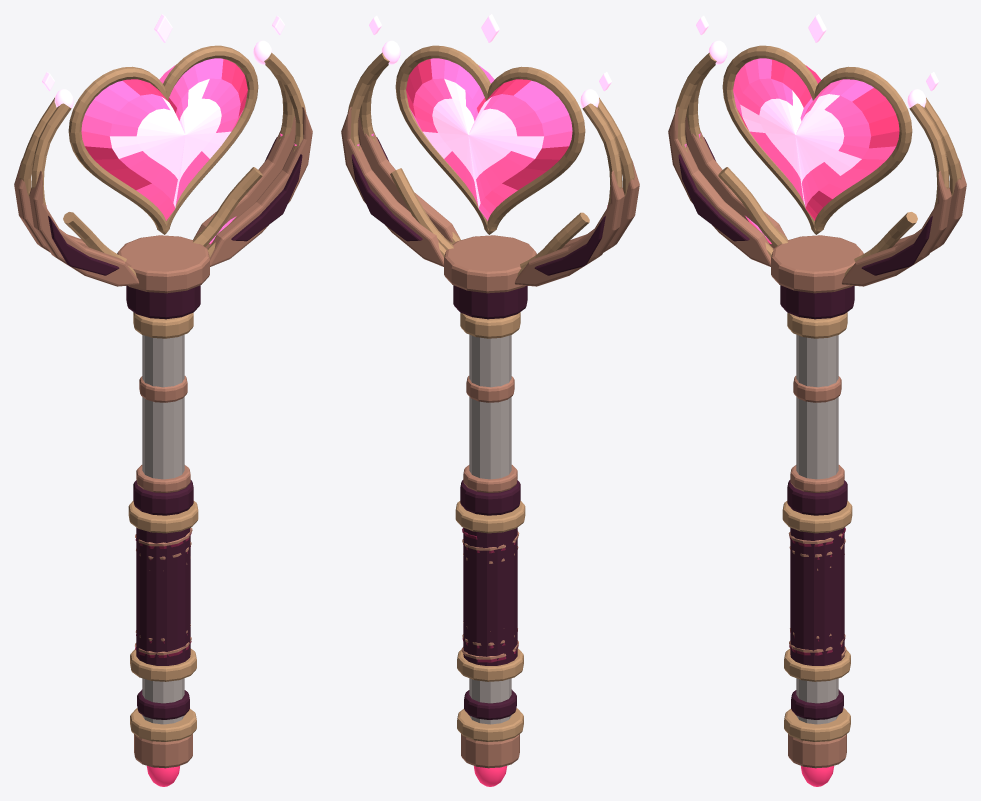
File: michaela-heart-wand.glb
3 renders of one model, left to right at view 1: azimuth 30°, elevation 25°; view 2: azimuth 150°, elevation 25°; view 3: azimuth 330°, elevation 25°, orthographic.
Parts seen in each view (by area): view 1: SW_MICHAELA_HEART_WAND_MESH; view 2: SW_MICHAELA_HEART_WAND_MESH; view 3: SW_MICHAELA_HEART_WAND_MESH.
Part boxes in pixels (<box>): SW_MICHAELA_HEART_WAND_MESH: <box>14,14,312,786</box>; SW_MICHAELA_HEART_WAND_MESH: <box>341,14,639,786</box>; SW_MICHAELA_HEART_WAND_MESH: <box>668,14,966,786</box>.
Bounding box in the file's own units: 0.41 × 1.08 × 0.12.
